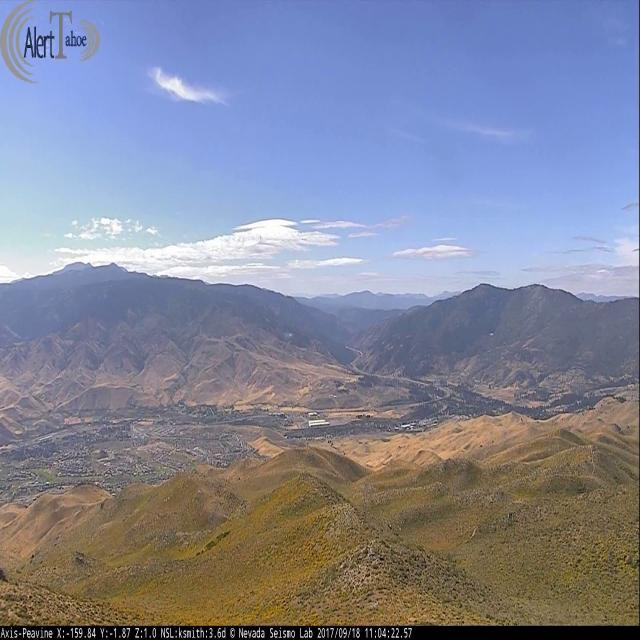smoke: (284, 331, 293, 339)
